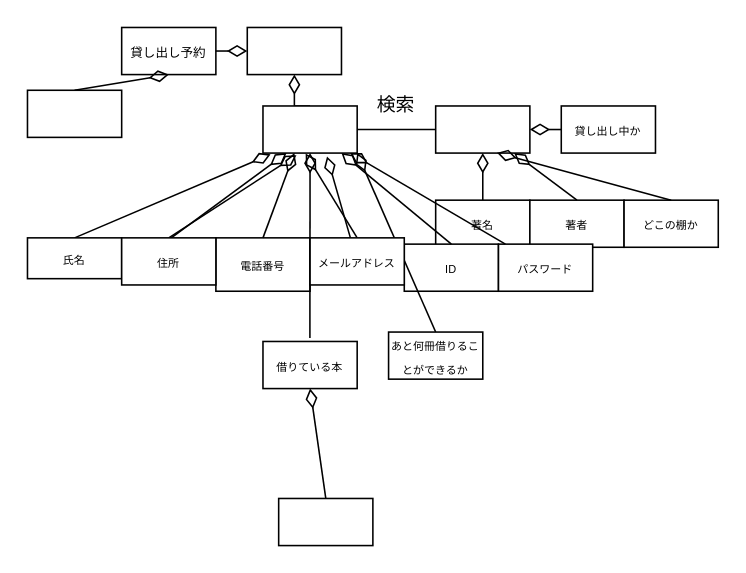
Image size: 746x573. Some labels were removed from this diagram. The centre of each missing label's shape, as x and y in pixels:
利用者: point (293, 50)
図書: point (482, 128)
図書カード: point (309, 128)
必要事項: point (74, 113)
貸し出し期限: point (325, 521)
